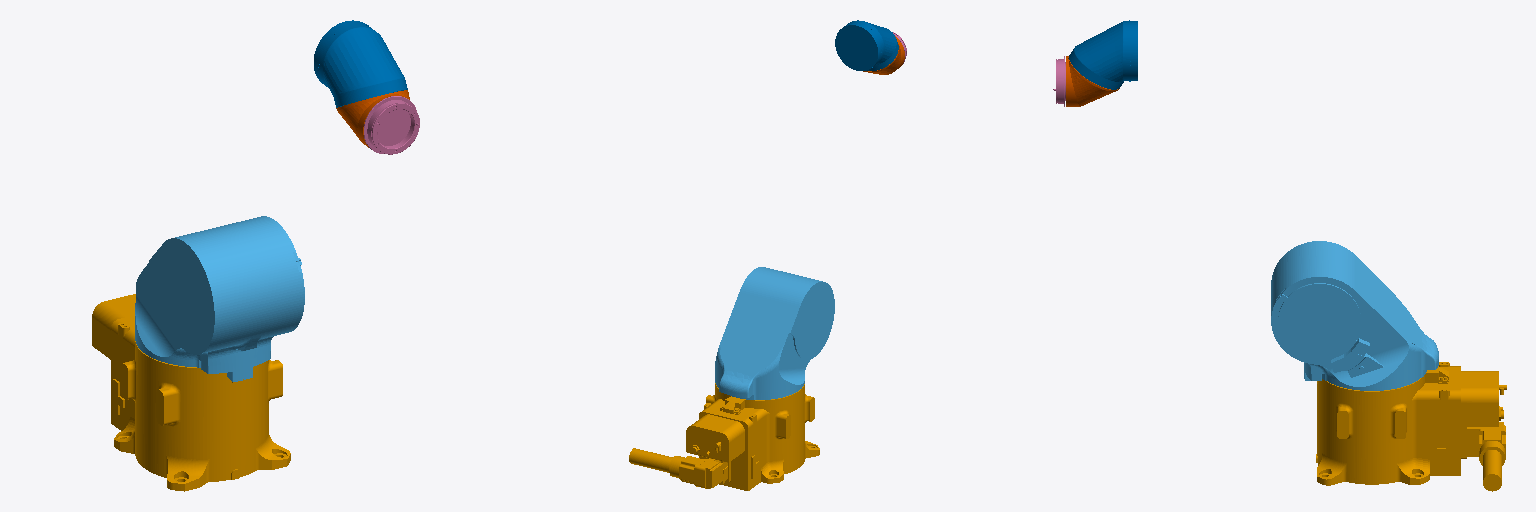
robot.urdf — KJ125:
<?xml version="1.0" ?>
<robot name="KJ125">
  <link name="base_link">
    <visual>
      <origin xyz="-0.0000 -0.0000 -0.0000" rpy="0.0 0.0 3.141592653589793"/>
      <geometry>
        <mesh filename="package://KJ125/meshes/base_link.stl" scale="0.001 0.001 0.001"/>
      </geometry>
    </visual>
    <collision>
      <origin xyz="-0.0000 -0.0000 -0.0000" rpy="0.0 0.0 3.141592653589793"/>
      <geometry>
        <mesh filename="package://KJ125/meshes/base_link.stl" scale="0.001 0.001 0.001"/>
      </geometry>
    </collision>
  </link>
  <link name="link1">
    <visual>
      <origin xyz="-0.0000 -0.0000 -0.2660" rpy="0.0 0.0 3.141592653589793"/>
      <geometry>
        <mesh filename="package://KJ125/meshes/link1.stl" scale="0.001 0.001 0.001"/>
      </geometry>
    </visual>
    <collision>
      <origin xyz="-0.0000 -0.0000 -0.2660" rpy="0.0 0.0 3.141592653589793"/>
      <geometry>
        <mesh filename="package://KJ125/meshes/link1.stl" scale="0.001 0.001 0.001"/>
      </geometry>
    </collision>
  </link>
  <link name="link2">
    <visual>
      <origin xyz="-0.0000 0.1350 -0.4500" rpy="0.0 0.0 3.141592653589793"/>
      <geometry>
        <mesh filename="package://KJ125/meshes/link2.stl" scale="0.001 0.001 0.001"/>
      </geometry>
    </visual>
    <collision>
      <origin xyz="-0.0000 0.1350 -0.4500" rpy="0.0 0.0 3.141592653589793"/>
      <geometry>
        <mesh filename="package://KJ125/meshes/link2.stl" scale="0.001 0.001 0.001"/>
      </geometry>
    </collision>
  </link>
  <link name="link3">
    <visual>
      <origin xyz="-0.0000 0.1350 -1.0500" rpy="0.0 0.0 3.141592653589793"/>
      <geometry>
        <mesh filename="package://KJ125/meshes/link3.stl" scale="0.001 0.001 0.001"/>
      </geometry>
    </visual>
    <collision>
      <origin xyz="-0.0000 0.1350 -1.0500" rpy="0.0 0.0 3.141592653589793"/>
      <geometry>
        <mesh filename="package://KJ125/meshes/link3.stl" scale="0.001 0.001 0.001"/>
      </geometry>
    </collision>
  </link>
  <link name="link4">
    <visual>
      <origin xyz="-0.0000 0.6850 -1.1750" rpy="0.0 0.0 3.141592653589793"/>
      <geometry>
        <mesh filename="package://KJ125/meshes/link4.stl" scale="0.001 0.001 0.001"/>
      </geometry>
    </visual>
    <collision>
      <origin xyz="-0.0000 0.6850 -1.1750" rpy="0.0 0.0 3.141592653589793"/>
      <geometry>
        <mesh filename="package://KJ125/meshes/link4.stl" scale="0.001 0.001 0.001"/>
      </geometry>
    </collision>
  </link>
  <link name="link5">
    <visual>
      <origin xyz="-0.0000 0.6850 -1.1750" rpy="0.0 0.0 3.141592653589793"/>
      <geometry>
        <mesh filename="package://KJ125/meshes/link5.stl" scale="0.001 0.001 0.001"/>
      </geometry>
    </visual>
    <collision>
      <origin xyz="-0.0000 0.6850 -1.1750" rpy="0.0 0.0 3.141592653589793"/>
      <geometry>
        <mesh filename="package://KJ125/meshes/link5.stl" scale="0.001 0.001 0.001"/>
      </geometry>
    </collision>
  </link>
  <link name="link6">
    <visual>
      <origin xyz="-0.0000 0.8200 -1.0884" rpy="0.0 0.0 3.141592653589793"/>
      <geometry>
        <mesh filename="package://KJ125/meshes/link6.stl" scale="0.001 0.001 0.001"/>
      </geometry>
    </visual>
    <collision>
      <origin xyz="-0.0000 0.8200 -1.0884" rpy="0.0 0.0 3.141592653589793"/>
      <geometry>
        <mesh filename="package://KJ125/meshes/link6.stl" scale="0.001 0.001 0.001"/>
      </geometry>
    </collision>
  </link>
  <link name="tool0">
  </link>
  <joint name="joint1" type="revolute">
    <parent link="base_link"/>
    <child link="link1"/>
    <origin xyz="0.0000 0.0000 0.2660" rpy="0.0000 0.0000 0.0000"/>
    <axis xyz="0.000000000000000 0.000000000000000 1.000000000000000"/>
    <limit lower="-2.79253" upper="2.79253" effort="100.0" velocity="1.5"/>
  </joint>
  <joint name="joint2" type="revolute">
    <parent link="link1"/>
    <child link="link2"/>
    <origin xyz="0.0000 -0.1350 0.1840" rpy="0.0000 0.0000 0.0000"/>
    <axis xyz="-1.000000000000000 0.000000000000000 0.000000000000000"/>
    <limit lower="-1.39626" upper="2.26893" effort="100.0" velocity="1.5"/>
  </joint>
  <joint name="joint3" type="revolute">
    <parent link="link2"/>
    <child link="link3"/>
    <origin xyz="0.0000 0.0000 0.6000" rpy="0.0000 0.0000 0.0000"/>
    <axis xyz="1.000000000000000 0.000000000000000 0.000000000000000"/>
    <limit lower="-1.30900" upper="1.57080" effort="100.0" velocity="1.5"/>
  </joint>
  <joint name="joint4" type="revolute">
    <parent link="link3"/>
    <child link="link4"/>
    <origin xyz="0.0000 -0.5500 0.1250" rpy="0.0000 0.0000 0.0000"/>
    <axis xyz="0.000000000000000 -1.000000000000000 0.000000000000000"/>
    <limit lower="-12.56637" upper="12.56637" effort="100.0" velocity="1.5"/>
  </joint>
  <joint name="joint5" type="revolute">
    <parent link="link4"/>
    <child link="link5"/>
    <origin xyz="0.0000 0.0000 0.0000" rpy="0.0000 0.0000 0.0000"/>
    <axis xyz="0.000000000000000 -0.500000000000000 -0.866025404000000"/>
    <limit lower="-12.56637" upper="12.56637" effort="100.0" velocity="1.5"/>
  </joint>
  <joint name="joint6" type="revolute">
    <parent link="link5"/>
    <child link="link6"/>
    <origin xyz="0.0000 -0.1350 -0.0866" rpy="0.0000 0.0000 0.0000"/>
    <axis xyz="0.000000000000000 -1.000000000000000 0.000000000000000"/>
    <limit lower="-7.15585" upper="7.15585" effort="100.0" velocity="1.5"/>
  </joint>
  <joint name="joint_tool0" type="fixed">
    <parent link="link6"/>
    <child link="tool0"/>
    <origin xyz="0.0000 0.0000 0.0000" rpy="0.0000 0.0000 0.0000"/>
  </joint>
</robot>

--- Facts derived from the render (not from the file) ---
Views: 3 orthographic renders of the robot side by side, from view 1: azimuth 30°, elevation 25°; view 2: azimuth 150°, elevation 25°; view 3: azimuth 270°, elevation 25°.
Model KJ125 with 8 links and 7 joints (6 revolute, 1 fixed), rooted at base_link, posed all joints at 0.
Links seen in each view (by area): view 1: link1, base_link, link4, link6, link5; view 2: link1, base_link, link4; view 3: base_link, link1, link4, link5.
Boxes of the visible links, left/top/right/bottom form: link1: left=135, top=216, right=304, bottom=381; base_link: left=92, top=294, right=290, bottom=491; link4: left=314, top=20, right=407, bottom=107; link6: left=364, top=96, right=419, bottom=154; link5: left=336, top=90, right=409, bottom=147; link1: left=715, top=267, right=834, bottom=399; base_link: left=629, top=383, right=819, bottom=490; link4: left=835, top=20, right=898, bottom=70; base_link: left=1316, top=362, right=1506, bottom=491; link1: left=1271, top=241, right=1438, bottom=390; link4: left=1069, top=20, right=1137, bottom=89; link5: left=1066, top=56, right=1119, bottom=106.
Bounding box of the posed robot: 0.427 × 1.18 × 1.25 m (x, y, z).
Meshes: 7 distinct files referenced, 5 mesh visuals loaded (5 binary STL); not drawn: 2 (reference not matched to a file when rendering).